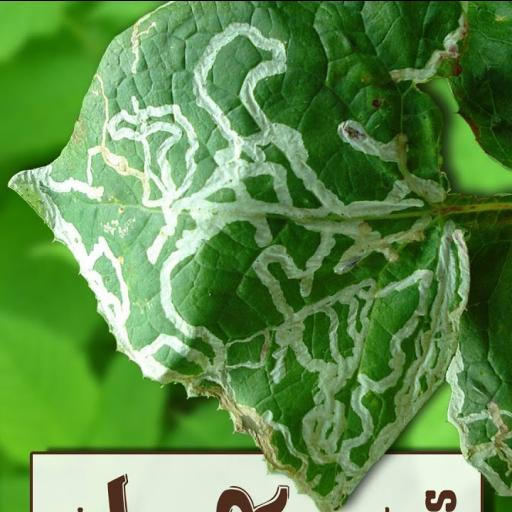Leaf Miner: (6, 0, 476, 512)
